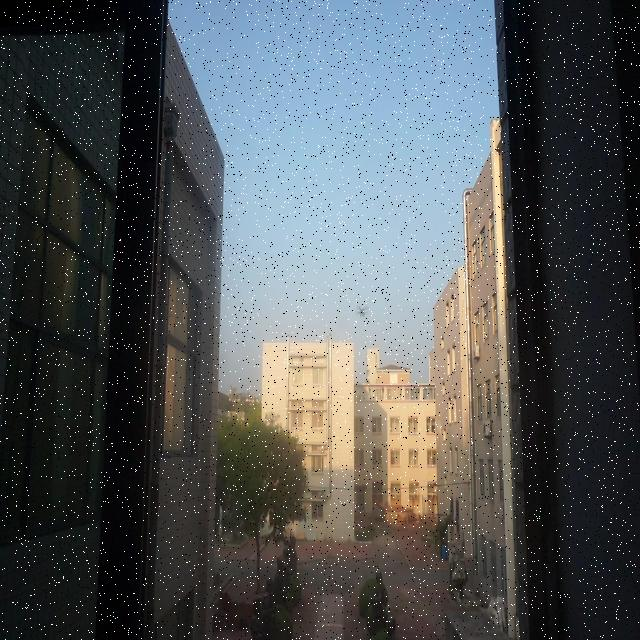UAV: (356, 306, 369, 318)
